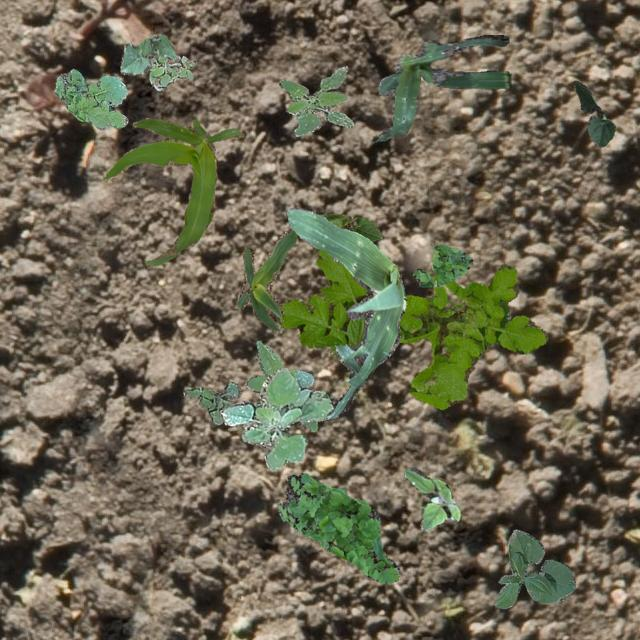crop: (286, 206, 406, 424), (101, 117, 242, 266), (374, 34, 510, 140), (494, 528, 574, 608), (236, 228, 296, 332), (572, 80, 614, 146), (118, 34, 178, 74), (318, 212, 380, 240)
weed: (274, 246, 546, 408), (277, 472, 398, 582), (220, 366, 332, 469), (244, 340, 316, 430), (278, 66, 352, 136), (54, 68, 128, 128), (404, 466, 458, 530), (412, 244, 472, 286), (182, 382, 240, 424), (148, 54, 194, 90)
